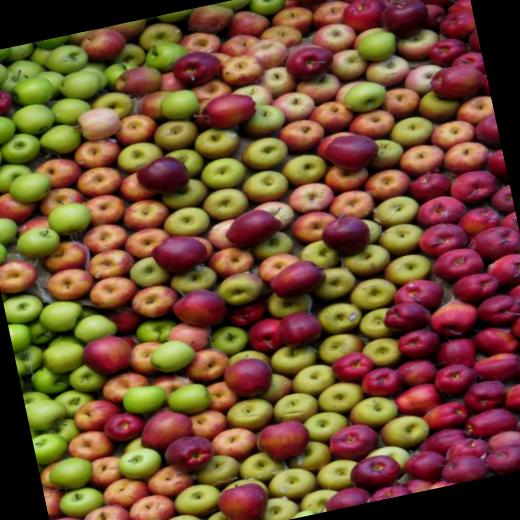Apple: (0, 0, 520, 520), (252, 415, 314, 466), (214, 477, 272, 520)
